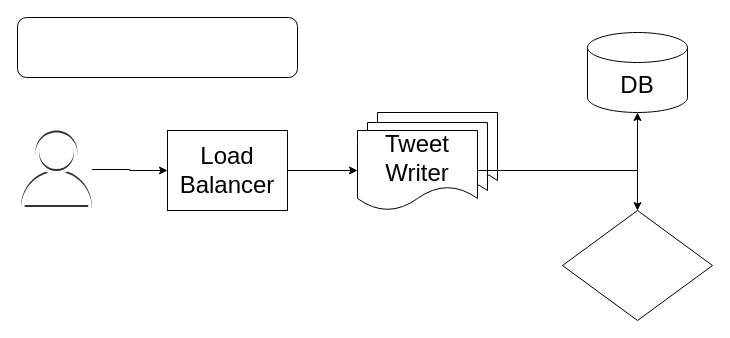
The diagram is 730 pixels wide and 338 high, and some of its shapes have lost their labels. Each missing label, with the centre of its shape:
"Cache" goes at pixel 637 265.
"Scenario 1: Post tweets" goes at pixel 157 47.
